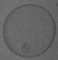small: (21, 42, 31, 52)
